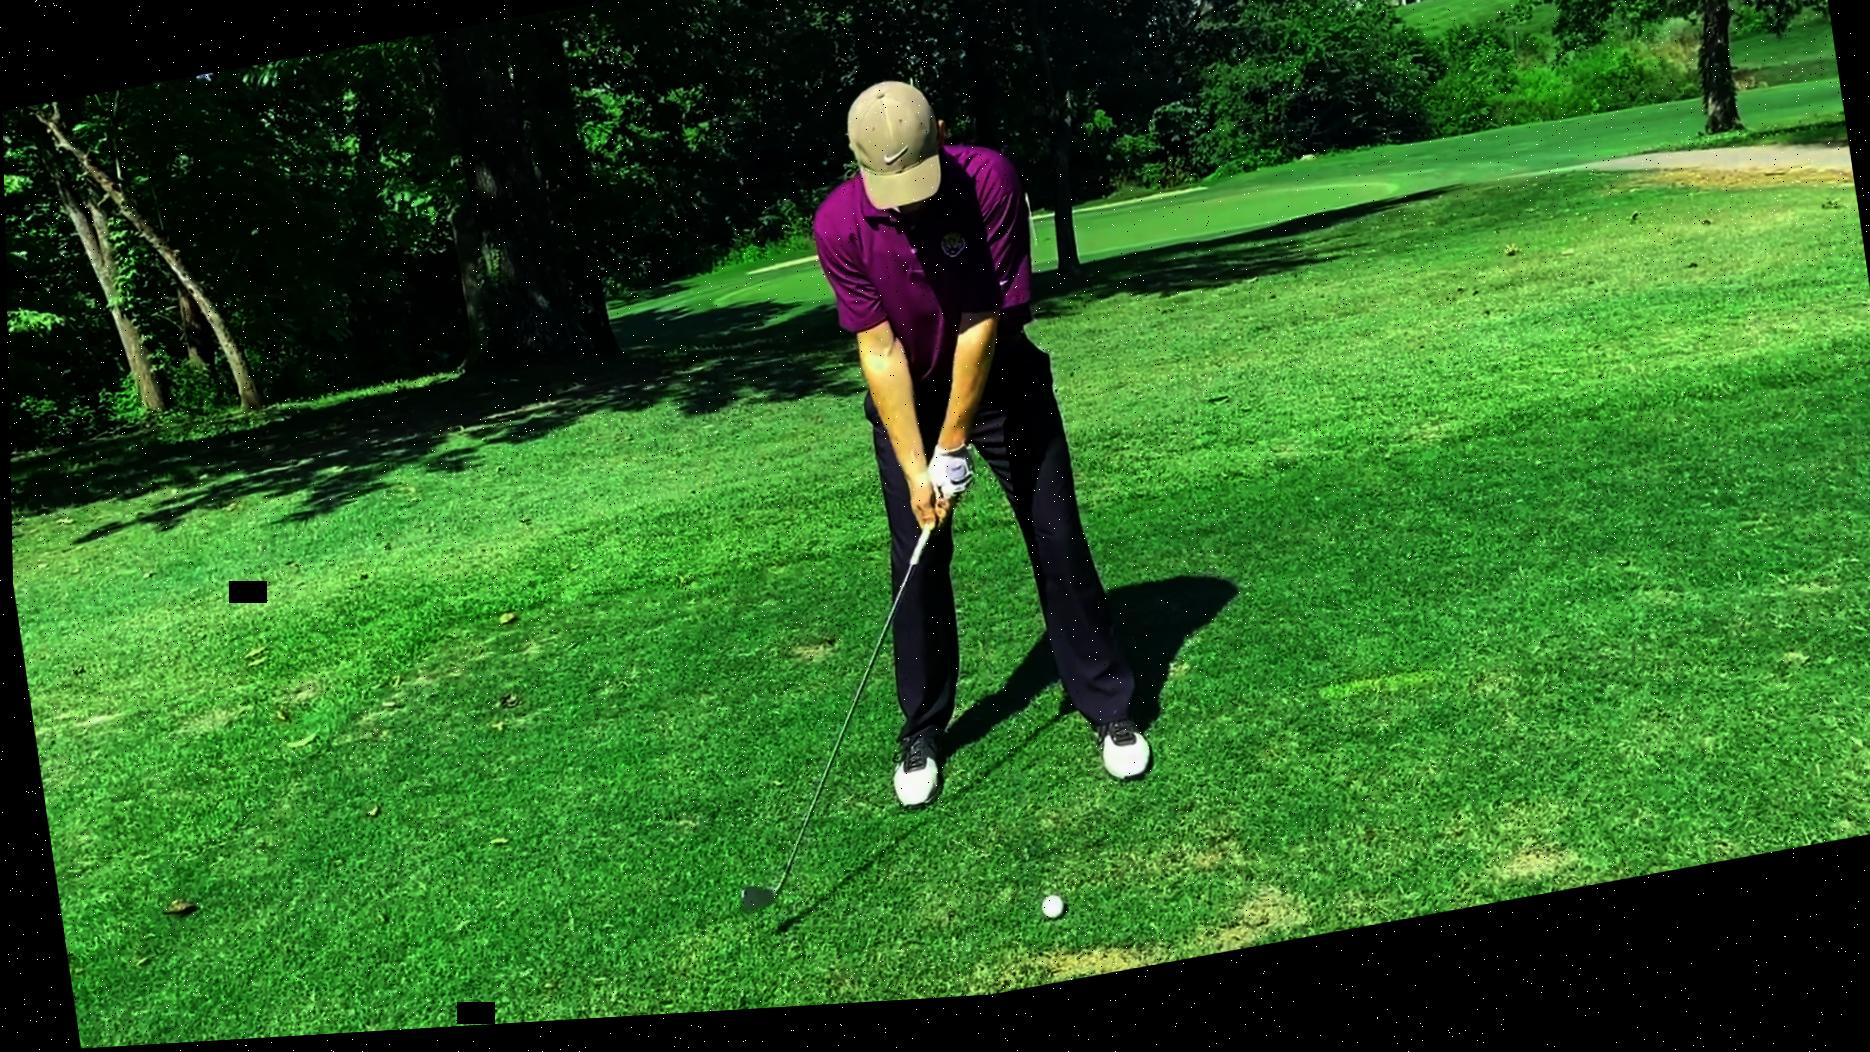ClubHead: (730, 875, 792, 925)
GolfBall: (1034, 903, 1063, 938)
